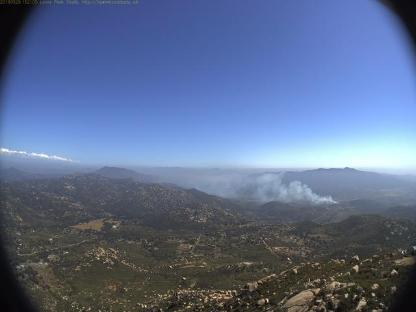smoke: (206, 170, 338, 206)
